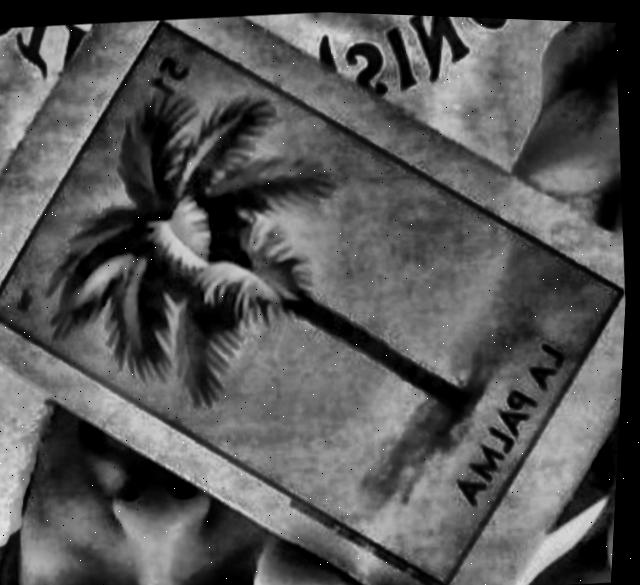La Palma: (0, 20, 626, 574)
